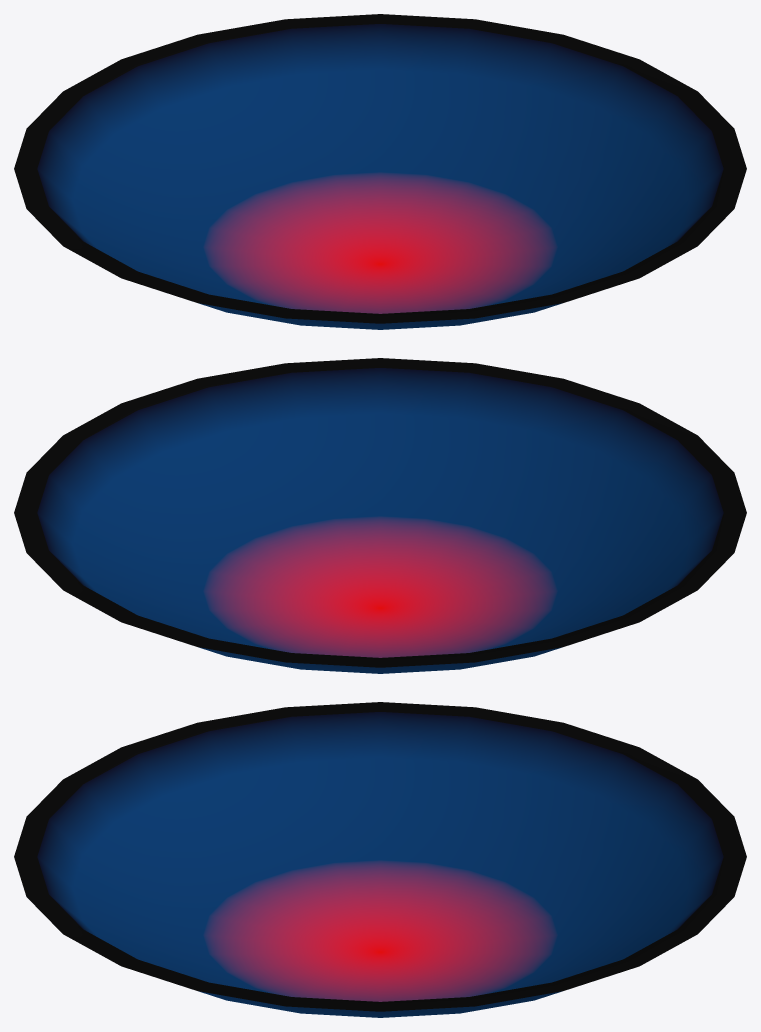
Rendered from SphereBulb_Single.FBX.
The picture shows the model from 3 angles, top to bottom: view 1: azimuth 30°, elevation 25°; view 2: azimuth 150°, elevation 25°; view 3: azimuth 270°, elevation 25°; orthographic projection.
Visible parts, largest first — view 1: SphereBulb_Single; view 2: SphereBulb_Single; view 3: SphereBulb_Single.
Boxes of the visible parts, x1,y1,x2,y2 form: SphereBulb_Single: (14,14,746,329); SphereBulb_Single: (14,358,746,673); SphereBulb_Single: (14,702,746,1017).
Size of the model in its own units: 0.9127 by 0.1312 by 0.9127.
